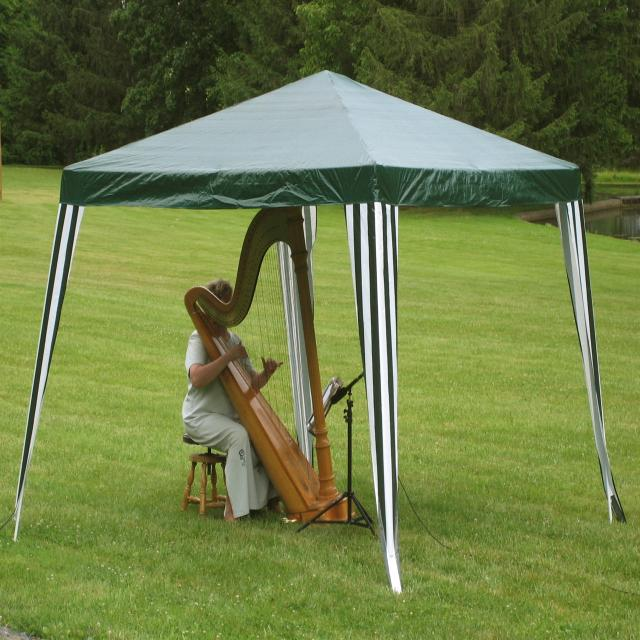harp: (183, 202, 357, 525)
